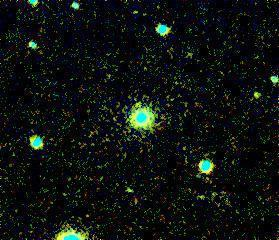star: (243, 80, 273, 110)
